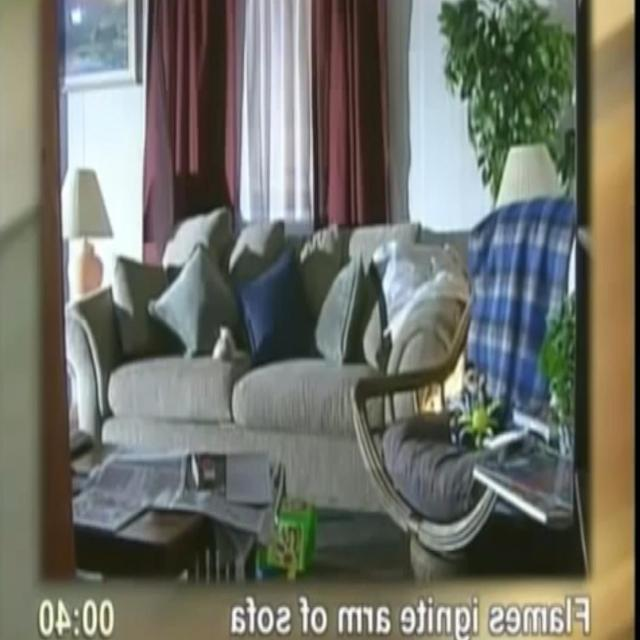smoke: (420, 342, 468, 416)
